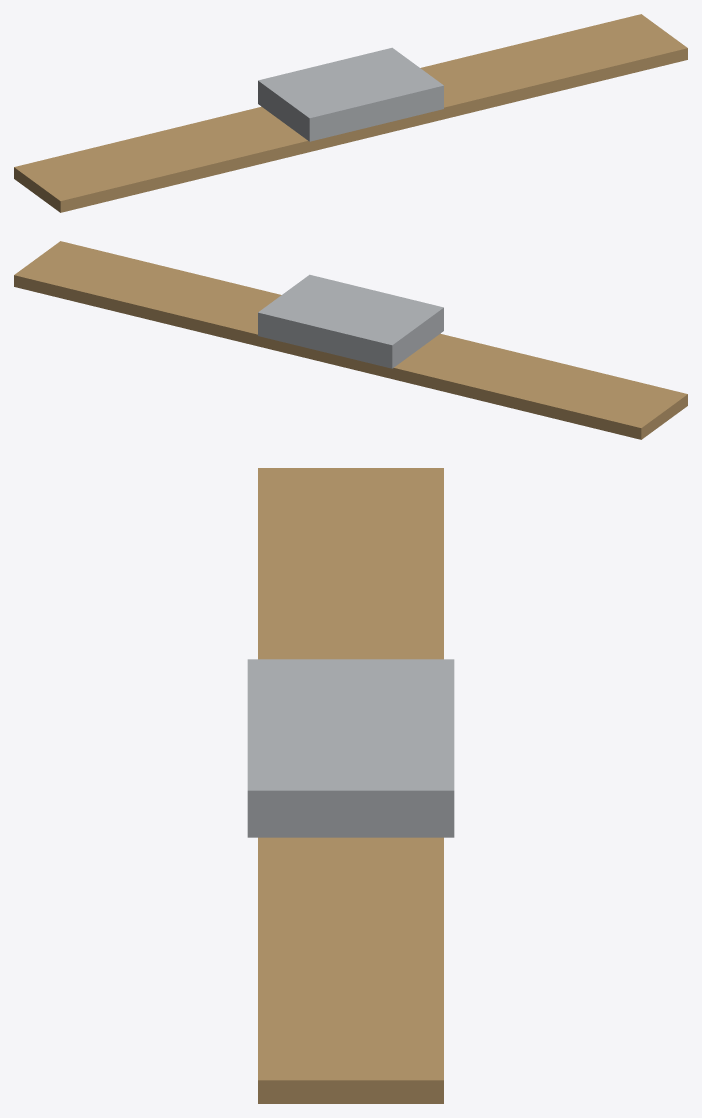
Rendered from 108_L103_ViaRepair_6.glb.
The picture shows the model from 3 angles, top to bottom: view 1: azimuth 30°, elevation 25°; view 2: azimuth 150°, elevation 25°; view 3: azimuth 270°, elevation 25°; orthographic projection. The views are drawn at different scales.
Visible parts, largest first — view 1: RepairCopperStrip, RepairSolder; view 2: RepairCopperStrip, RepairSolder; view 3: RepairCopperStrip, RepairSolder.
Boxes of the visible parts, bbox=[...] form: RepairCopperStrip: bbox=[14, 14, 687, 212]; RepairSolder: bbox=[258, 47, 443, 141]; RepairCopperStrip: bbox=[14, 241, 687, 439]; RepairSolder: bbox=[258, 274, 443, 368]; RepairCopperStrip: bbox=[258, 468, 443, 1103]; RepairSolder: bbox=[247, 659, 454, 837].
Size of the model in its own units: 0.014 by 0.000775 by 0.002.
